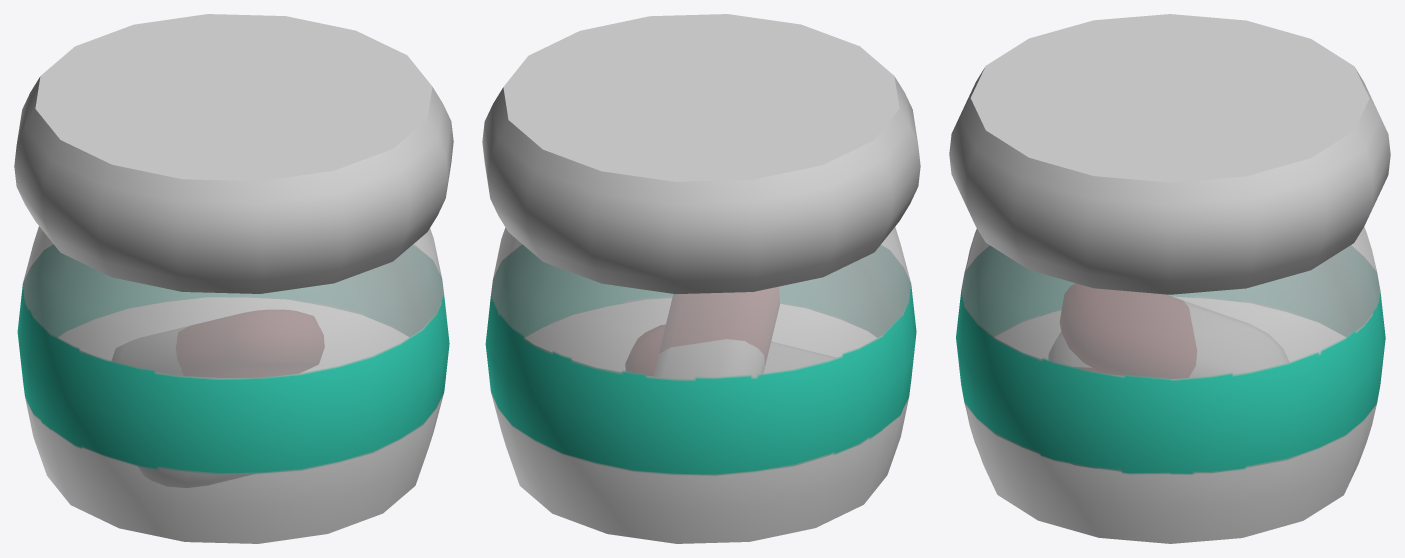
Rendered from PillBottle.glb.
The picture shows the model from 3 angles, left to right: view 1: azimuth 30°, elevation 25°; view 2: azimuth 150°, elevation 25°; view 3: azimuth 270°, elevation 25°; orthographic projection.
Visible parts, largest first — view 1: Cylinder.006, Cylinder.007, Cube.006, Cube; view 2: Cylinder.006, Cylinder.007, Cube.006, Cube; view 3: Cylinder.006, Cylinder.007, Cube.006, Cube.
Boxes of the visible parts, x1=… form: Cylinder.006: x1=17, y1=226, x2=449, y2=543; Cylinder.007: x1=14, y1=14, x2=453, y2=293; Cube.006: x1=112, y1=310, x2=323, y2=377; Cube: x1=139, y1=467, x2=251, y2=487; Cylinder.006: x1=485, y1=227, x2=916, y2=543; Cylinder.007: x1=482, y1=14, x2=920, y2=294; Cube.006: x1=654, y1=287, x2=779, y2=378; Cube: x1=626, y1=325, x2=835, y2=375; Cylinder.006: x1=956, y1=227, x2=1385, y2=543; Cylinder.007: x1=949, y1=14, x2=1390, y2=294; Cube.006: x1=1060, y1=284, x2=1288, y2=378; Cube: x1=1049, y1=333, x2=1098, y2=371.
Size of the model in its own units: 0.9291 by 0.8521 by 0.9291.
4 materials, 4 textured.
